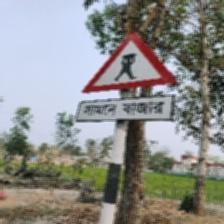Market-in-front: (78, 31, 178, 125)
